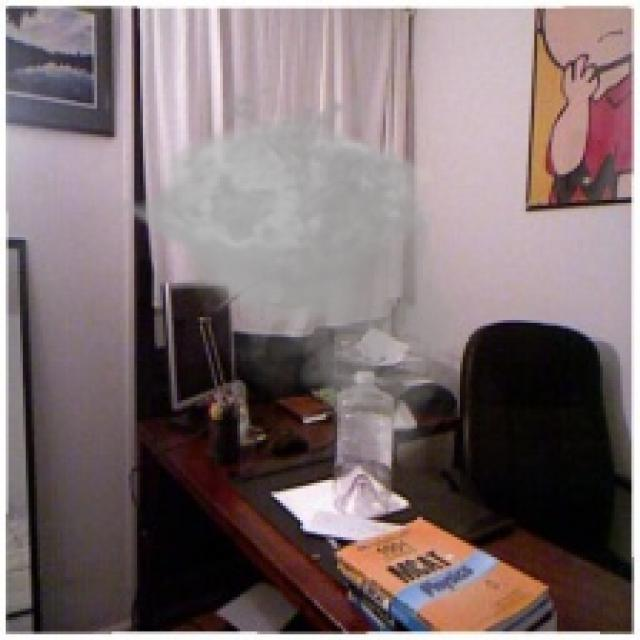smoke: (92, 68, 477, 466)
